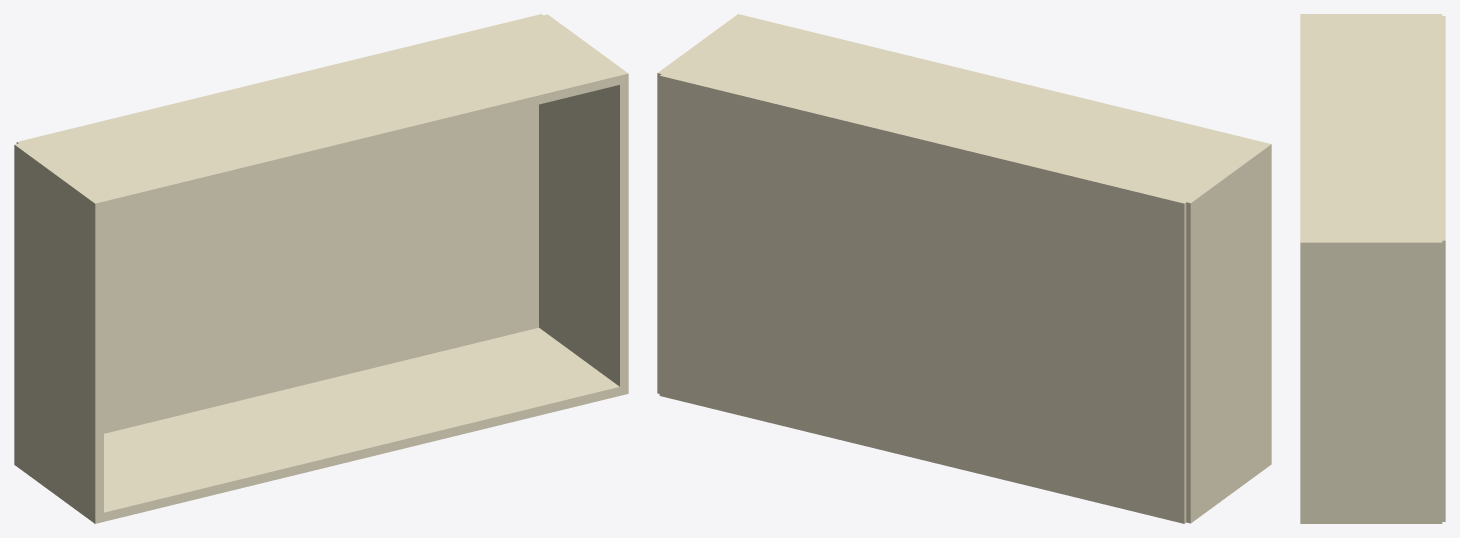
Rendered from drawer_body.glb.
3 views of the same model, side by side, from view 1: azimuth 30°, elevation 25°; view 2: azimuth 150°, elevation 25°; view 3: azimuth 270°, elevation 25° (orthographic). The views are drawn at different scales.
Parts seen in each view (by area): view 1: world; view 2: world; view 3: world.
Boxes of the visible parts, x1,y1,x2,y2 form: world: (14, 14, 628, 523); world: (657, 14, 1271, 523); world: (1300, 14, 1445, 523).
Bounding box in the file's own units: 0.305 × 0.175 × 0.082.
